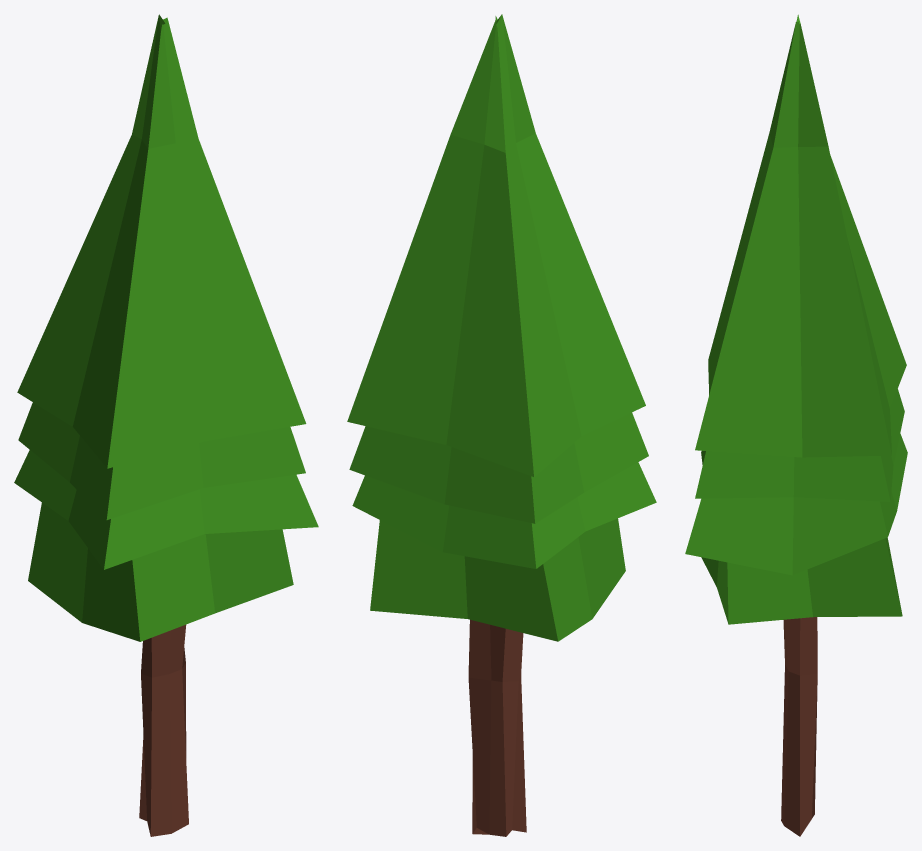
Rendered from Tree_large_02.fbx.
3 views of the same model, side by side, from view 1: azimuth 30°, elevation 25°; view 2: azimuth 150°, elevation 25°; view 3: azimuth 270°, elevation 25° (orthographic). The views are drawn at different scales.
Visible parts, largest first — view 1: Tree_large_02; view 2: Tree_large_02; view 3: Tree_large_02.
Part boxes in pixels (bbox=[...]): Tree_large_02: bbox=[14, 14, 318, 836]; Tree_large_02: bbox=[347, 14, 656, 836]; Tree_large_02: bbox=[685, 14, 907, 836].
Bounding box in the file's own units: 3.9 × 14.54 × 3.63.
